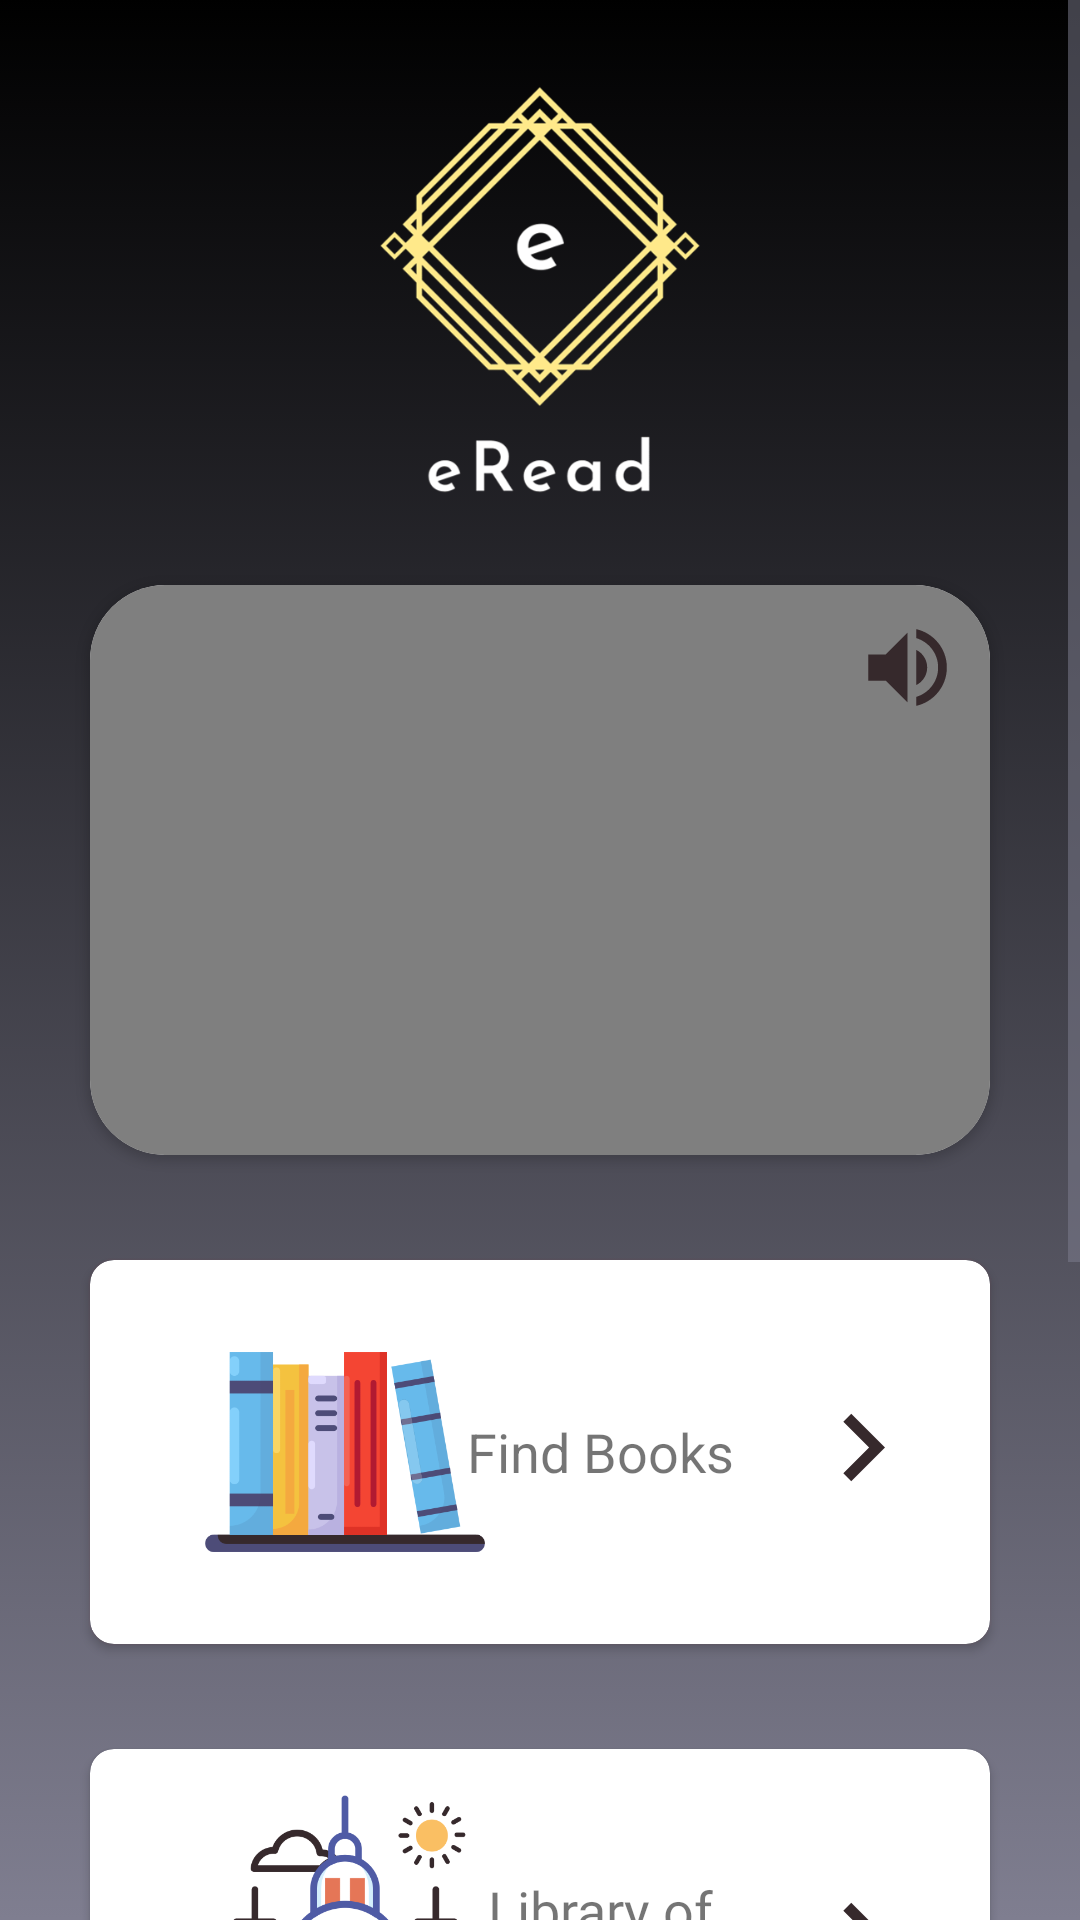

Point at icon controls on the screen. Image size 1080 × 1920, points as point (x, y).
volume up: point (907, 667)
